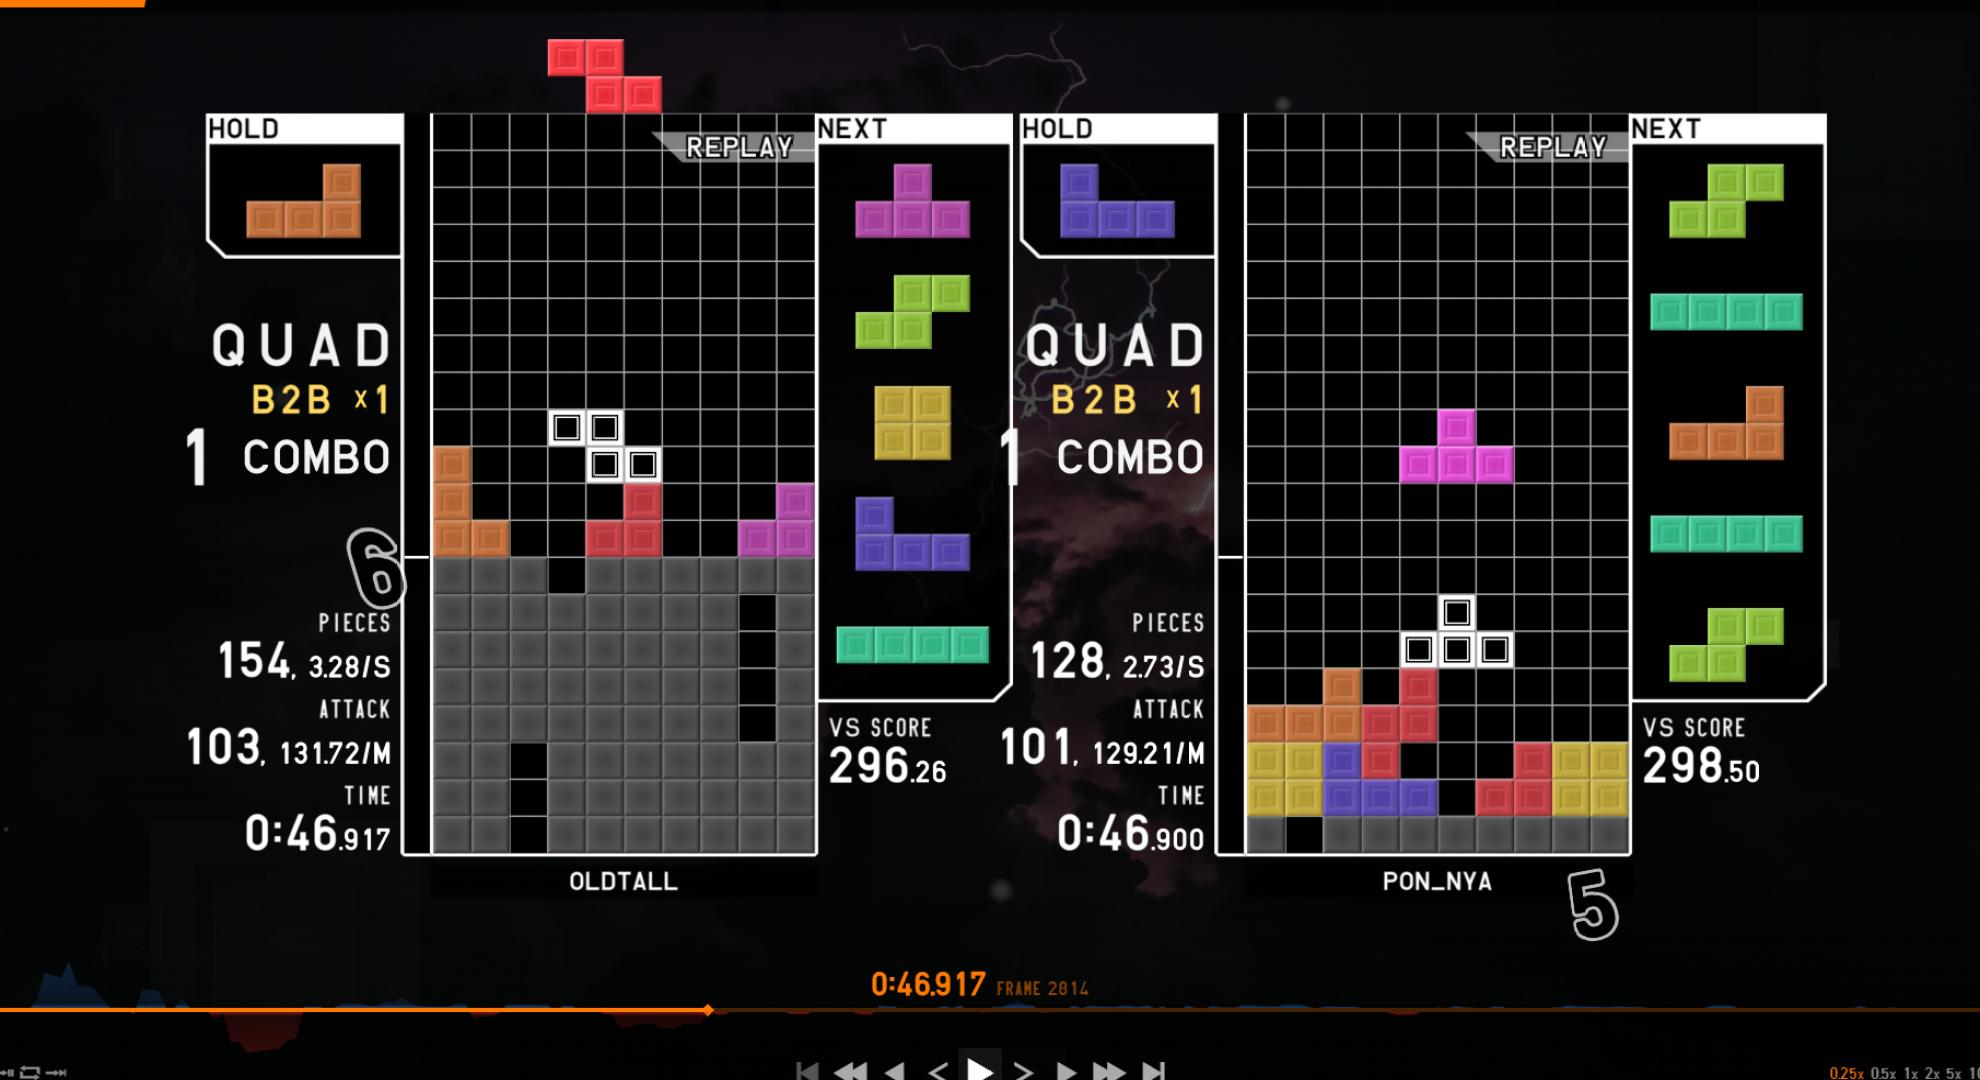tspin: (1400, 701, 1520, 819)
